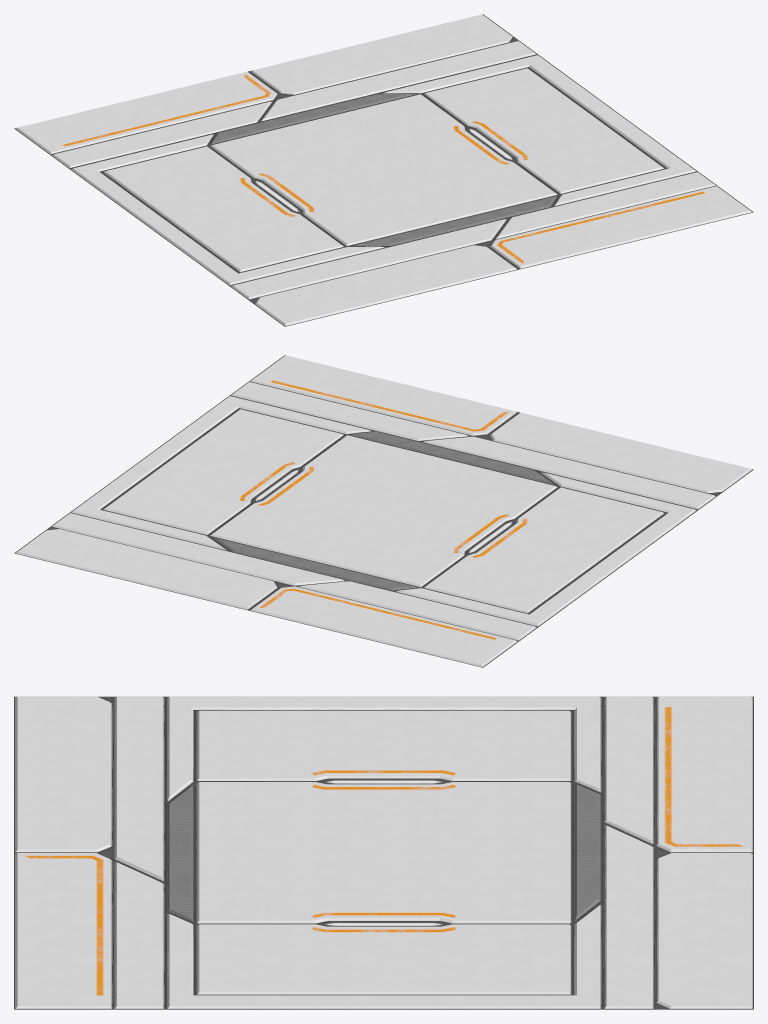
The model's file is SM_MFloor01-350x350-1.FBX.
The picture shows the model from 3 angles, top to bottom: view 1: azimuth 30°, elevation 25°; view 2: azimuth 150°, elevation 25°; view 3: azimuth 270°, elevation 25°; orthographic projection. The views are drawn at different scales.
Visible parts, largest first — view 1: SM_MFloor01-350x350-1; view 2: SM_MFloor01-350x350-1; view 3: SM_MFloor01-350x350-1.
Part boxes in pixels (left/top/right/bottom): SM_MFloor01-350x350-1: left=14, top=14, right=753, bottom=326; SM_MFloor01-350x350-1: left=14, top=355, right=753, bottom=667; SM_MFloor01-350x350-1: left=14, top=696, right=753, bottom=1009.
Size of what is drawn, in the model's own units: 350 by 350 by 1.
